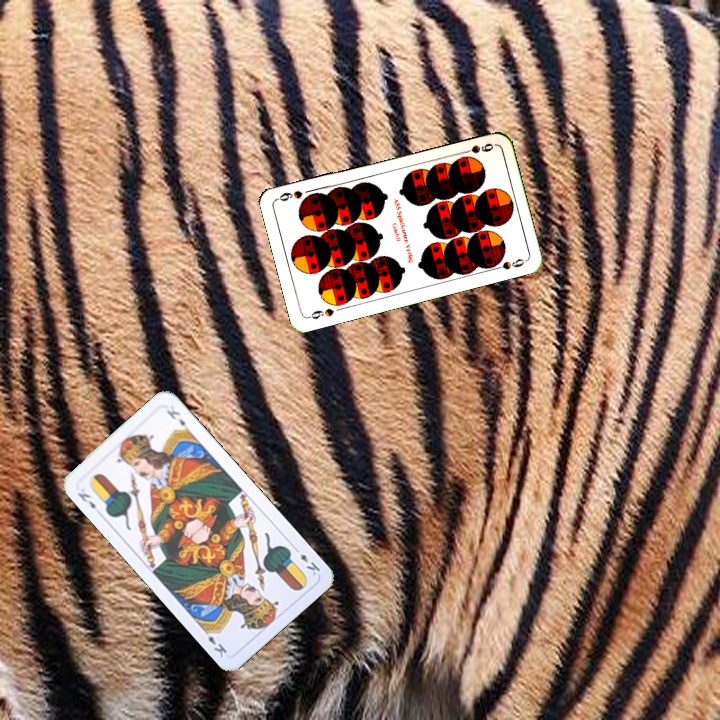EK: (290, 543, 323, 578), (73, 488, 98, 512)
S9: (456, 139, 496, 157), (304, 304, 337, 322)
